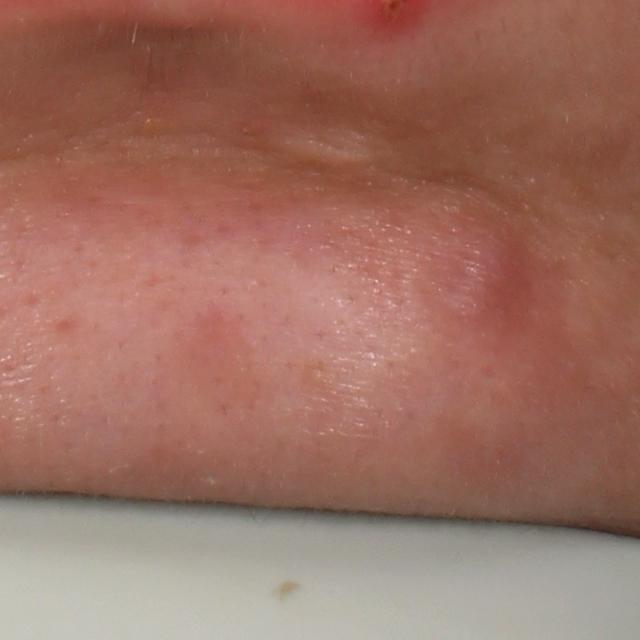hypertrophic_scar: (275, 127, 375, 168)
